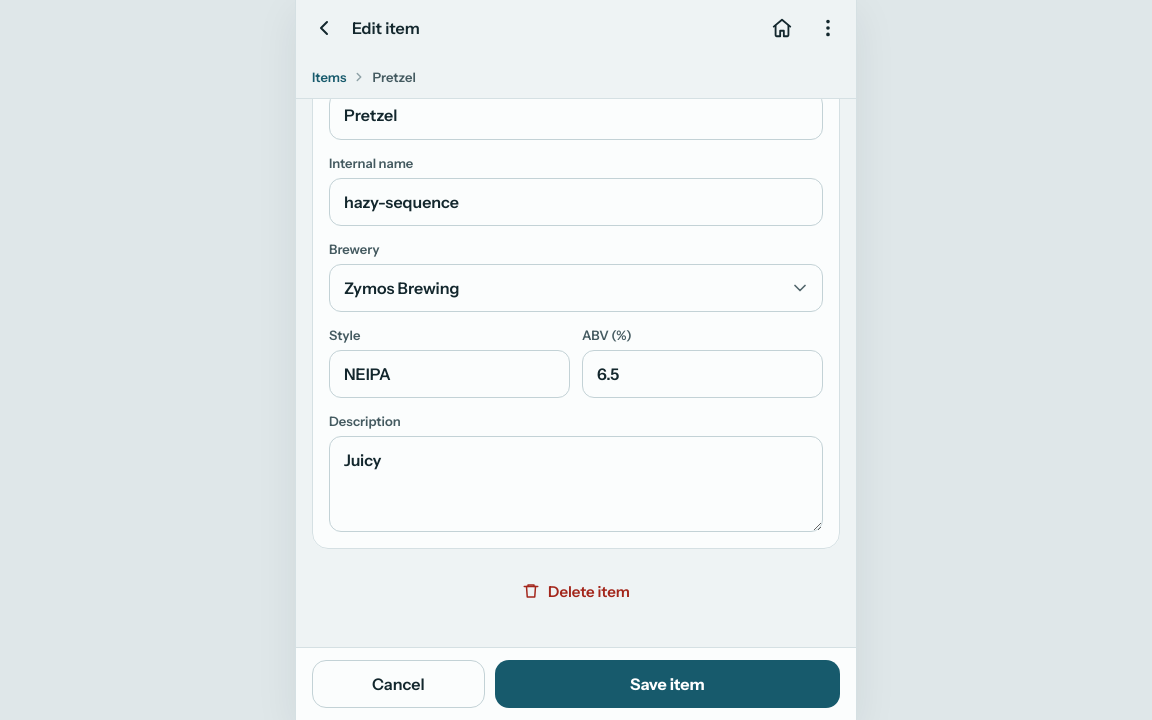
Test: LibraryItemPage › deletes an item that is on no menu
(page scrolled)
Click the button "Delete item". click: (576, 591)
box: [312,567,840,615]
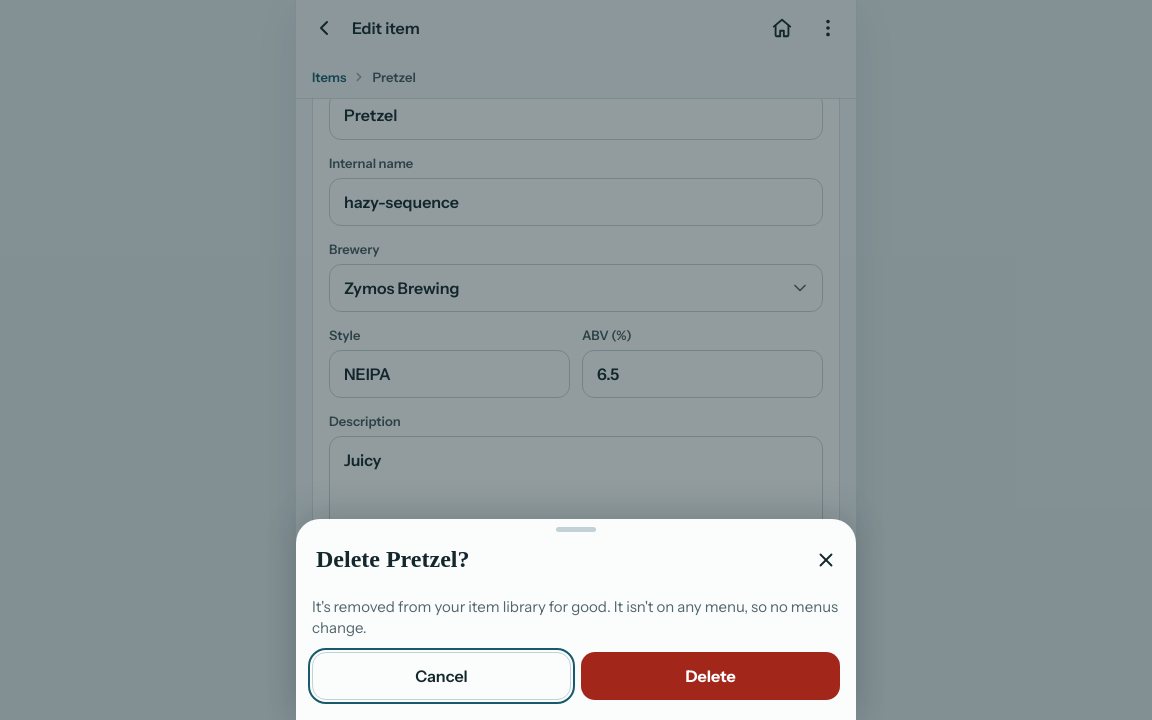
Click the button "Delete". click: (710, 676)
box: [581,652,840,700]
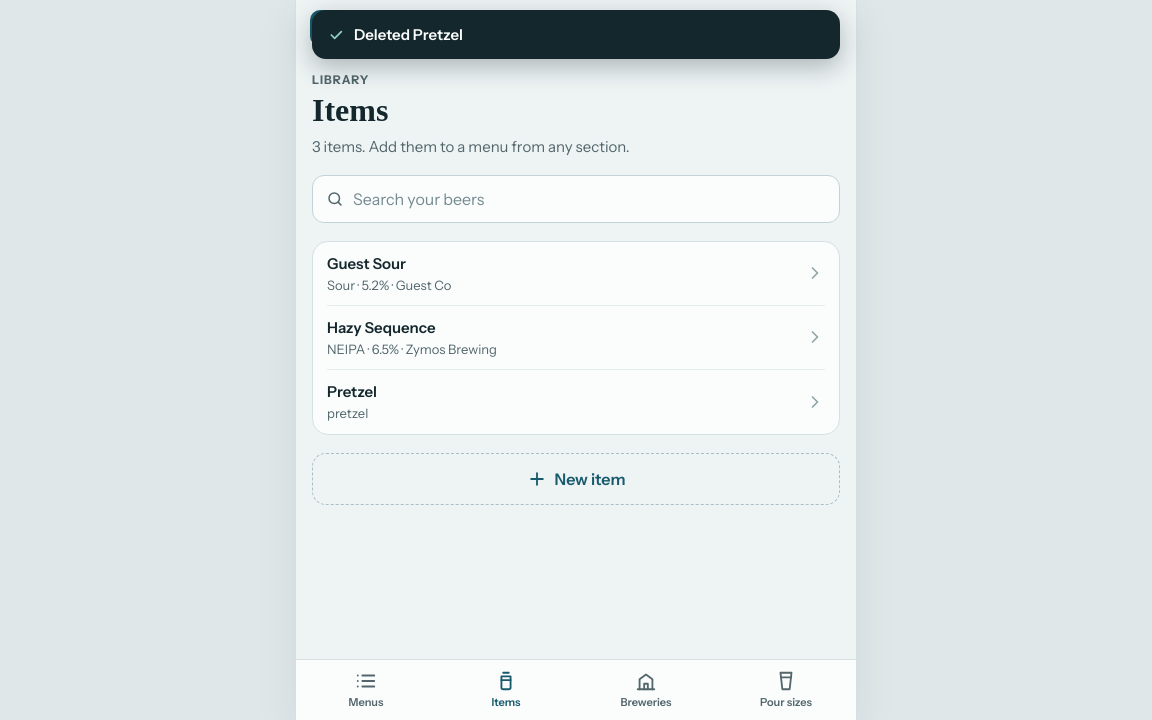
Check: the text "Deleted Pretzel" is shown, box [312,10,840,59]
